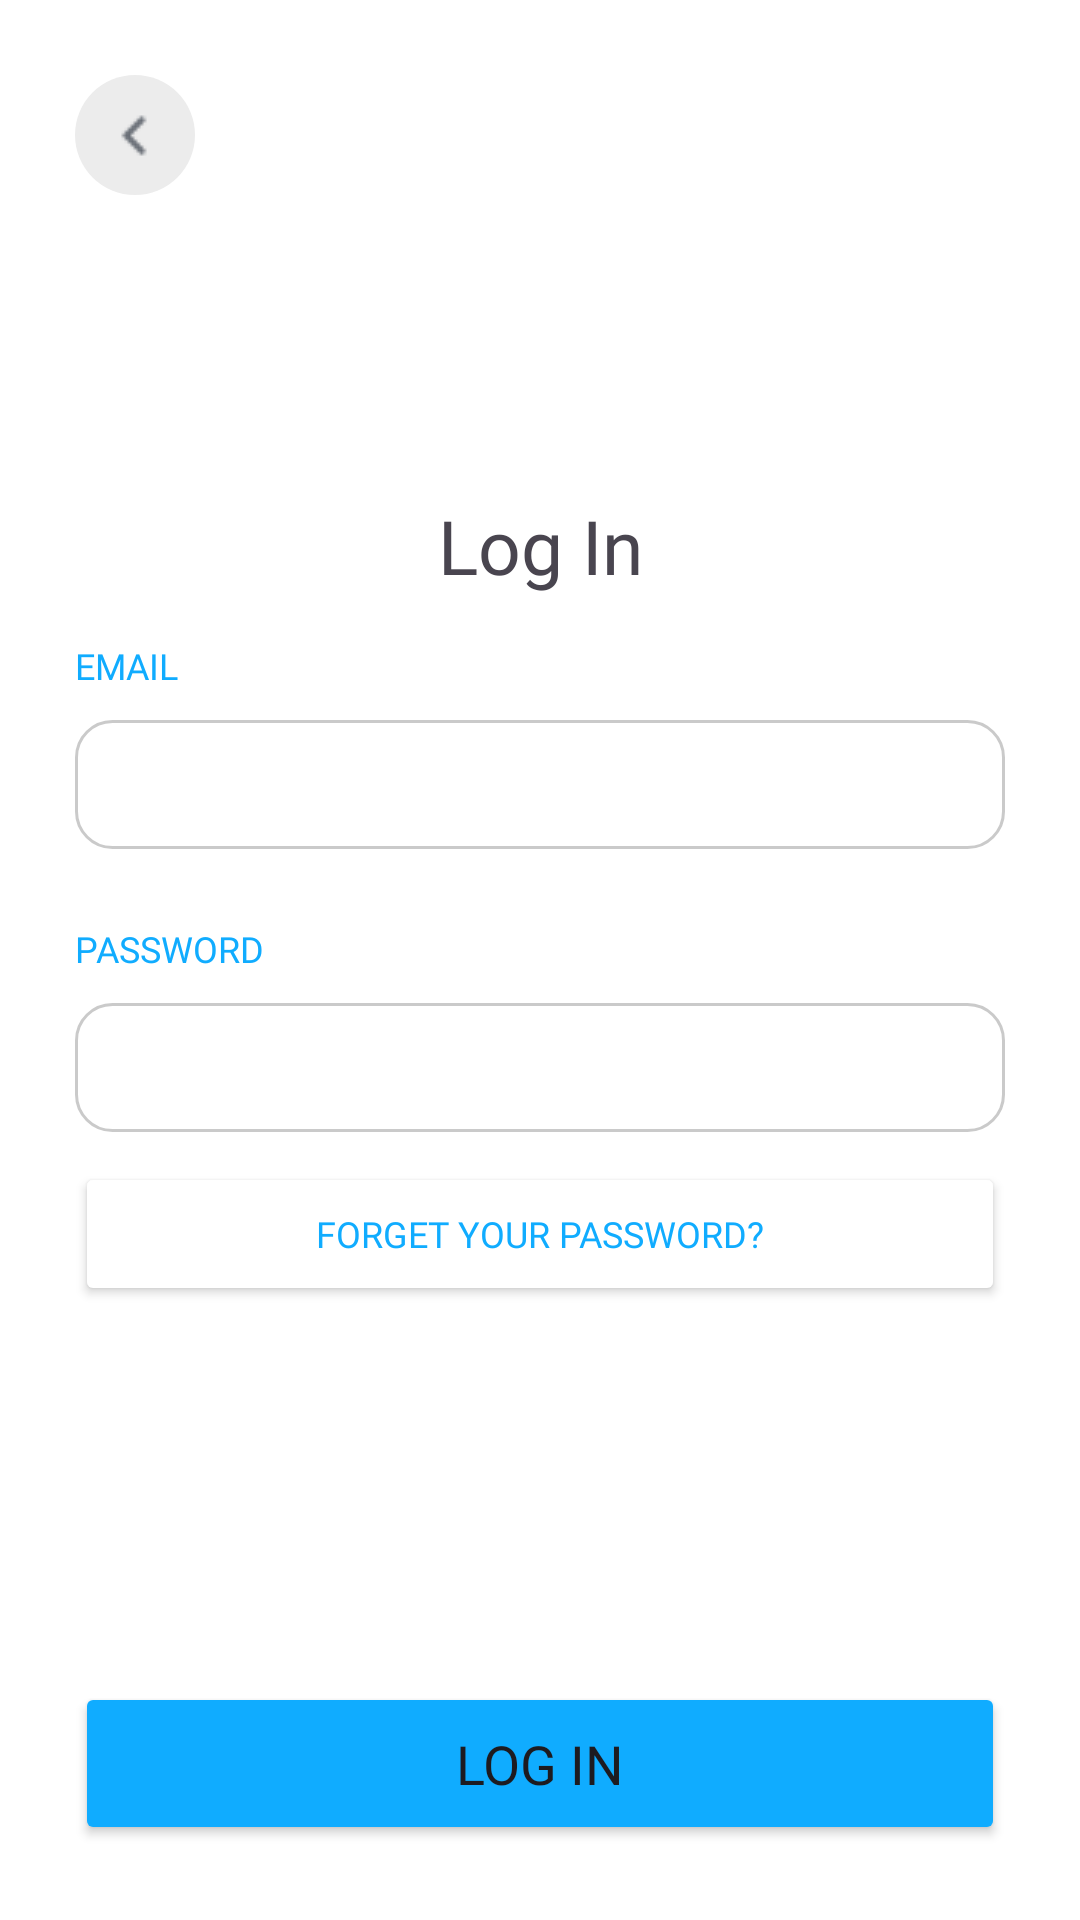

Icon click points for this 1080*1920 phone screenshot, format point (x, y):
back: point (134, 135)
